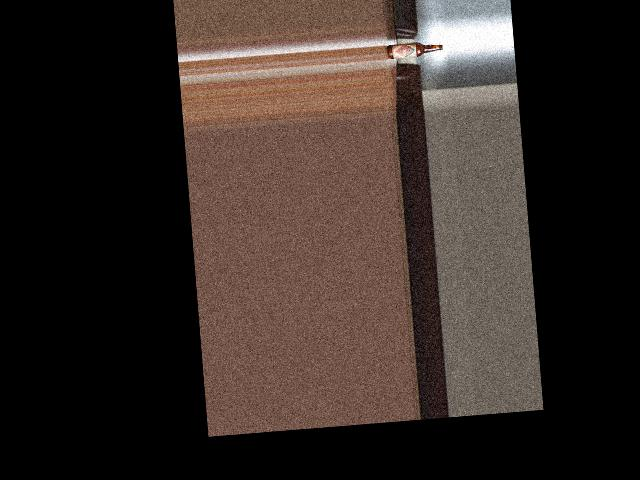beer: (386, 40, 442, 58)
